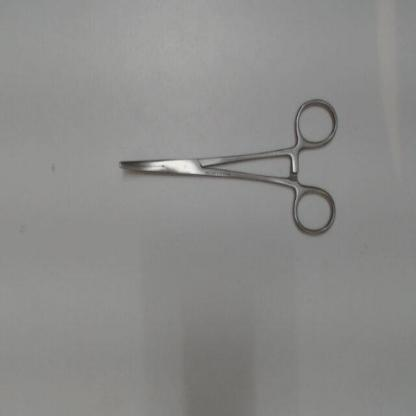Crile Artery Forceps: (108, 90, 344, 247)
